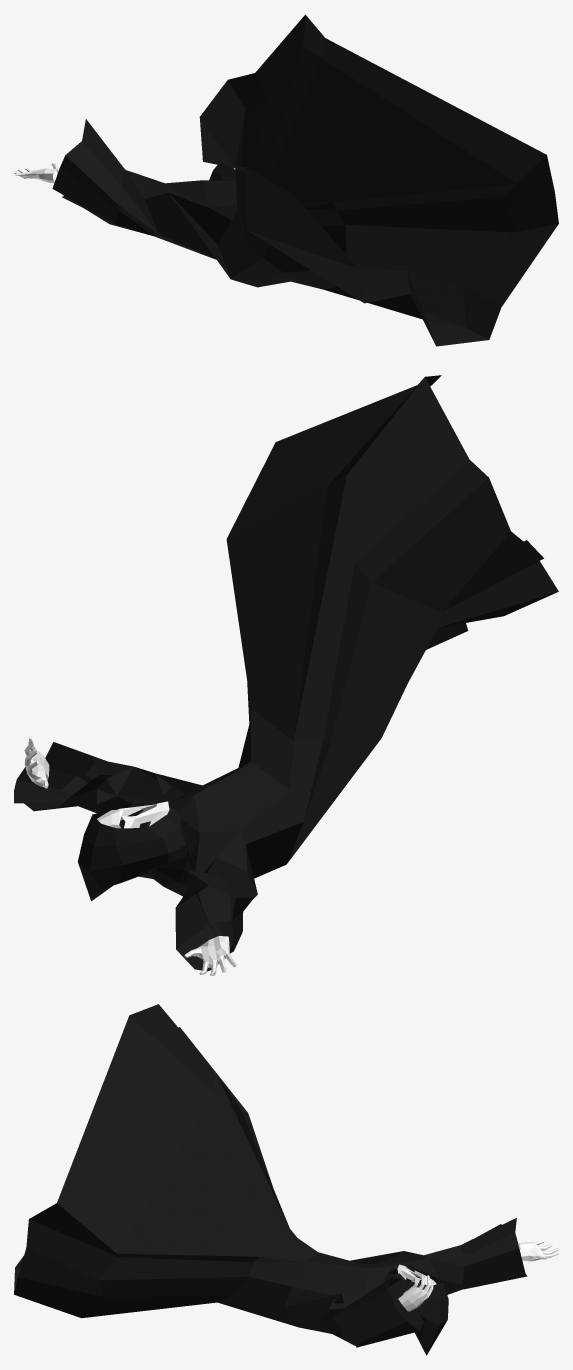
The model's file is ReaperDead(78).obj.
3 views of the same model, one above another, from view 1: azimuth 30°, elevation 25°; view 2: azimuth 150°, elevation 25°; view 3: azimuth 270°, elevation 25° (orthographic). The views are drawn at different scales.
Parts seen in each view (by area): view 1: Plane003; view 2: Plane003; view 3: Plane003.
Boxes of the visible parts, bbox=[...] form: Plane003: bbox=[14, 14, 558, 346]; Plane003: bbox=[14, 375, 558, 975]; Plane003: bbox=[14, 1004, 558, 1355].
Bounding box in the file's own units: 141 × 163 × 264.
